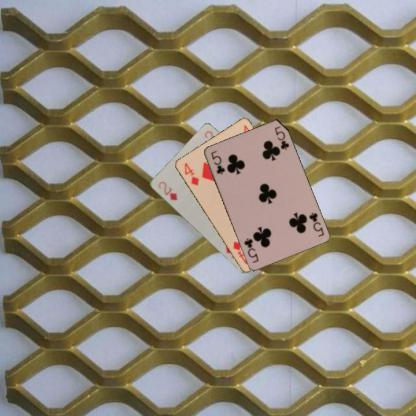2d: (156, 178, 178, 202)
4d: (181, 160, 200, 187)
5c: (306, 210, 325, 238), (208, 148, 226, 176)
